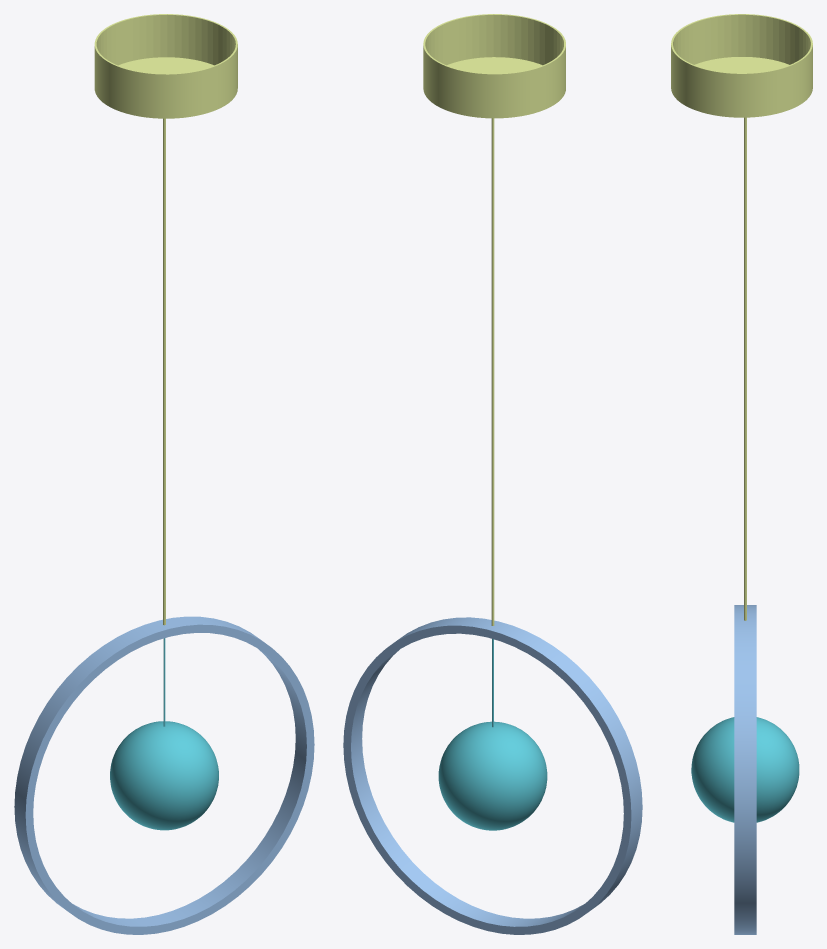
The picture shows the model from 3 angles, left to right: view 1: azimuth 30°, elevation 25°; view 2: azimuth 150°, elevation 25°; view 3: azimuth 270°, elevation 25°; orthographic projection.
Parts seen in each view (by area): view 1: pendant; view 2: pendant; view 3: pendant.
Part boxes in pixels (left/top/right/bottom): pendant: left=14, top=14, right=314, bottom=934; pendant: left=343, top=14, right=642, bottom=934; pendant: left=671, top=14, right=812, bottom=934.
Size of the model in its own units: 0.171 by 0.5 by 0.0734.
